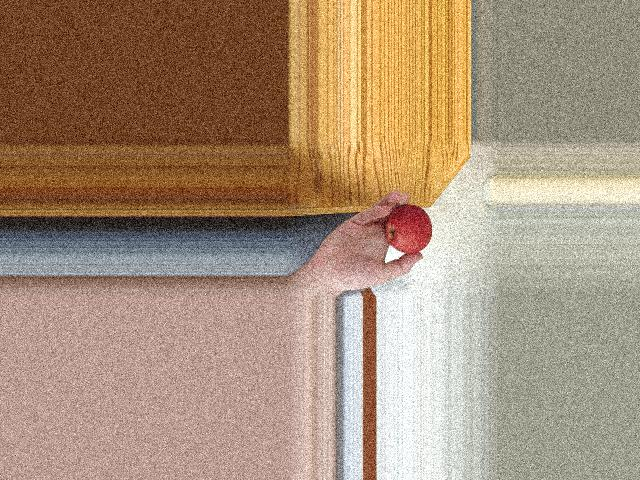apple: (385, 203, 435, 250)
